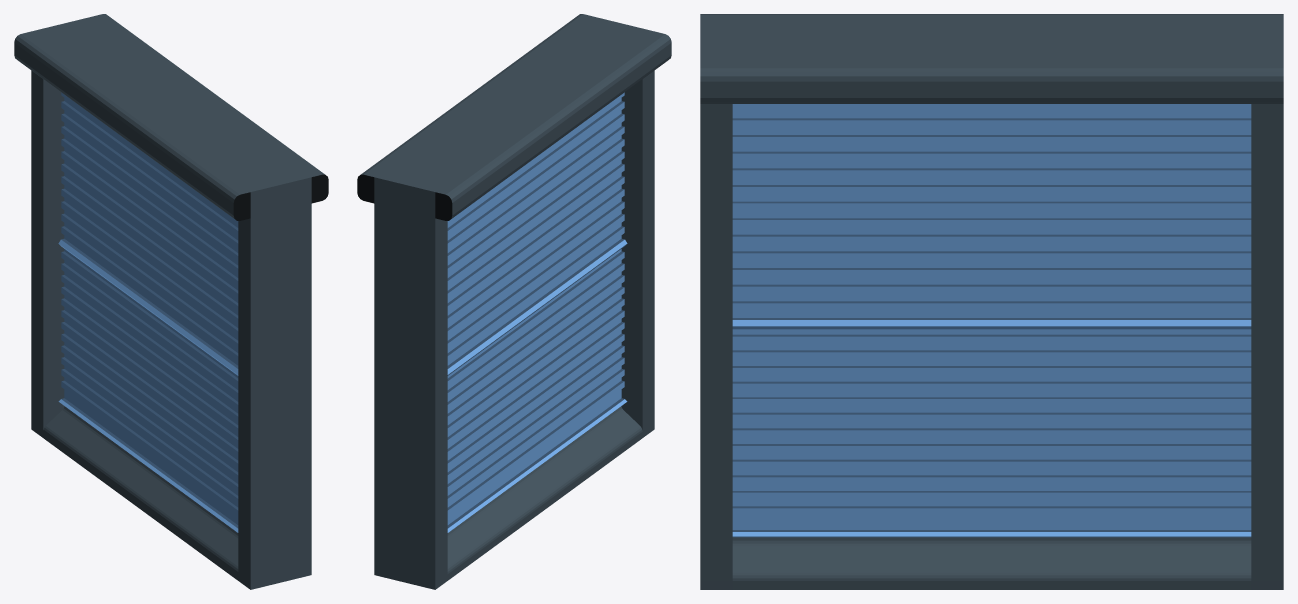
Rendered from Garage.fbx.
3 views of the same model, side by side, from view 1: azimuth 30°, elevation 25°; view 2: azimuth 150°, elevation 25°; view 3: azimuth 270°, elevation 25° (orthographic). The views are drawn at different scales.
Visible parts, largest first — view 1: Body.001, Garage; view 2: Body.001, Garage; view 3: Garage, Body.001.
Boxes of the visible parts, x1=… form: Body.001: x1=14, y1=14, x2=328, y2=589; Garage: x1=58, y1=92, x2=238, y2=532; Body.001: x1=357, y1=14, x2=671, y2=589; Garage: x1=447, y1=92, x2=627, y2=532; Garage: x1=732, y1=104, x2=1251, y2=537; Body.001: x1=700, y1=14, x2=1283, y2=589.
Bounding box in the file's own units: 50 × 200 × 200.
